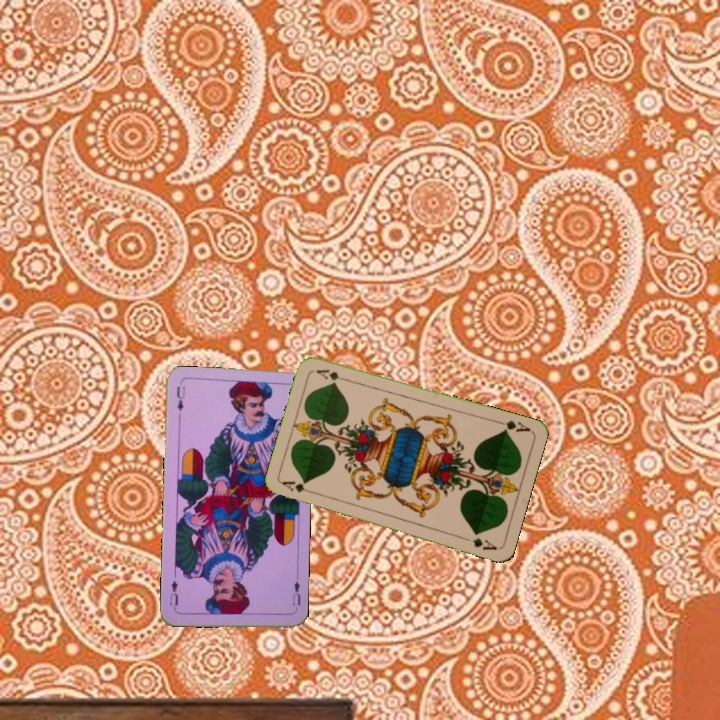EU: (288, 573, 303, 613), (173, 382, 188, 414)
GA: (278, 477, 318, 497), (493, 416, 533, 435)
